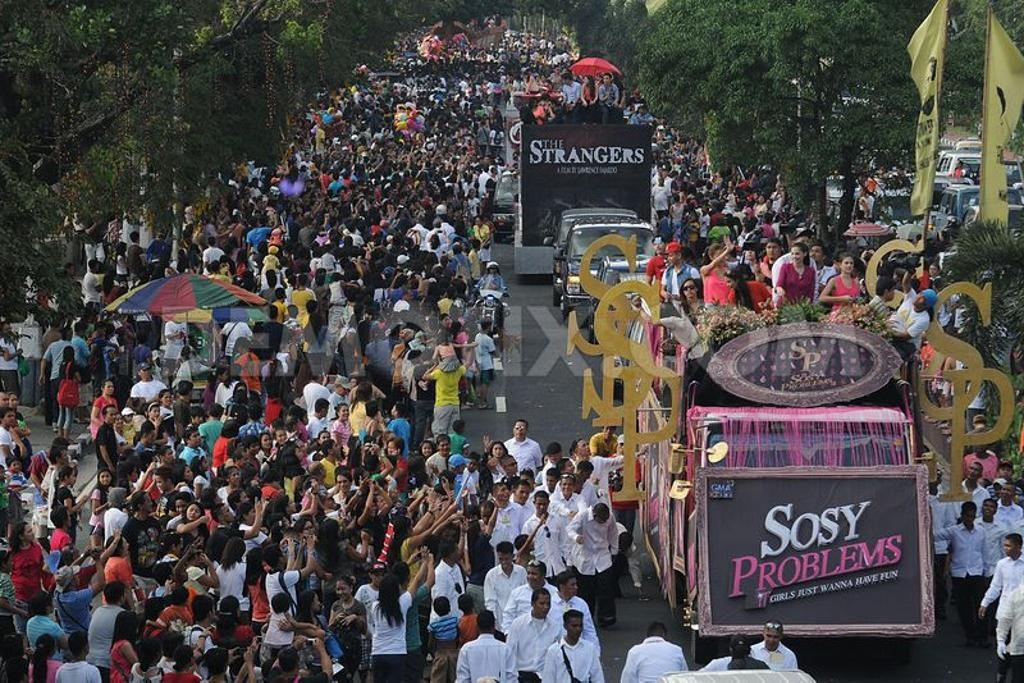human_face: (566, 616, 582, 638), (534, 596, 550, 616), (764, 631, 780, 649), (973, 434, 989, 452), (526, 567, 540, 587), (912, 292, 928, 308), (370, 568, 384, 586), (336, 582, 350, 600), (562, 577, 576, 595), (337, 476, 351, 492), (534, 496, 548, 512), (840, 256, 854, 272), (1002, 539, 1016, 555), (498, 552, 510, 570), (514, 486, 528, 501), (480, 507, 494, 522), (376, 495, 390, 510), (175, 499, 189, 514), (998, 463, 1012, 478), (577, 440, 591, 454), (186, 506, 200, 520), (20, 526, 34, 540), (682, 282, 696, 296), (449, 544, 461, 560), (308, 595, 320, 611), (561, 478, 573, 494), (513, 423, 525, 438), (228, 470, 240, 485), (712, 248, 722, 266), (518, 474, 530, 488), (505, 458, 517, 472), (602, 424, 614, 438), (422, 442, 434, 456), (594, 512, 608, 524), (220, 507, 232, 521), (156, 477, 168, 491), (180, 467, 192, 481), (140, 497, 152, 511), (56, 450, 68, 464), (104, 409, 116, 423), (188, 432, 200, 446), (790, 248, 802, 262), (808, 246, 820, 260), (766, 242, 778, 256), (652, 239, 664, 253), (962, 509, 974, 523), (1002, 486, 1014, 500), (968, 464, 980, 478), (364, 500, 374, 516), (302, 522, 312, 538), (238, 493, 248, 509), (128, 464, 138, 480), (438, 439, 450, 452), (994, 483, 1006, 496), (982, 502, 994, 514), (190, 552, 202, 564), (496, 486, 506, 500), (276, 548, 286, 562), (246, 509, 256, 523), (118, 540, 128, 554), (339, 406, 349, 420), (884, 284, 894, 298), (746, 244, 756, 258), (667, 250, 677, 264), (71, 572, 81, 586), (98, 472, 110, 483), (261, 435, 271, 448), (2, 411, 12, 424), (330, 442, 338, 458), (492, 445, 502, 457), (386, 442, 396, 454), (466, 459, 476, 471), (112, 416, 122, 428), (103, 382, 113, 394), (276, 432, 286, 444), (144, 432, 154, 444), (162, 450, 172, 462), (319, 434, 329, 446), (116, 592, 126, 604), (206, 606, 214, 621), (8, 396, 18, 408), (219, 370, 229, 382), (170, 540, 180, 552), (564, 460, 572, 474), (62, 512, 70, 526), (235, 441, 243, 455), (10, 461, 22, 470), (300, 411, 308, 424), (140, 366, 150, 376), (248, 443, 258, 453), (488, 263, 498, 273), (551, 454, 563, 462), (545, 456, 553, 468), (546, 475, 554, 487), (66, 471, 74, 483), (162, 394, 170, 406), (929, 264, 937, 276), (200, 458, 208, 470), (194, 412, 202, 423), (582, 468, 590, 479), (317, 466, 325, 476), (150, 408, 158, 418), (320, 406, 328, 416), (2, 324, 10, 334), (350, 379, 356, 391), (124, 413, 132, 421), (336, 386, 344, 394), (602, 76, 610, 84), (562, 75, 570, 83), (442, 317, 448, 327), (391, 406, 397, 414), (530, 100, 536, 107), (583, 76, 589, 82)
